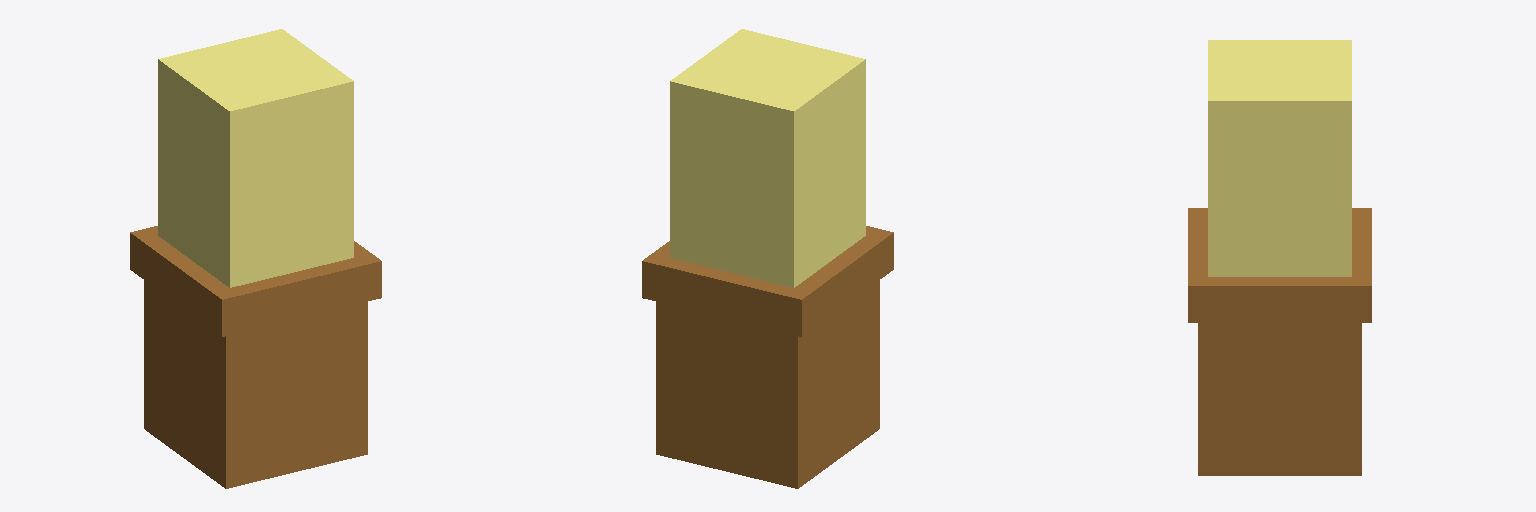
3 views of the same model, side by side, from view 1: azimuth 30°, elevation 25°; view 2: azimuth 150°, elevation 25°; view 3: azimuth 270°, elevation 25° (orthographic).
Parts seen in each view (by area): view 1: object 1; view 2: object 1; view 3: object 1.
Part boxes in pixels (x1,y1,x2,y2): object 1: (130,29,381,488); object 1: (642,29,893,488); object 1: (1188,40,1371,475).
Size of the model in its own units: 1.8 by 4 by 1.8.
1 materials, 1 textured.